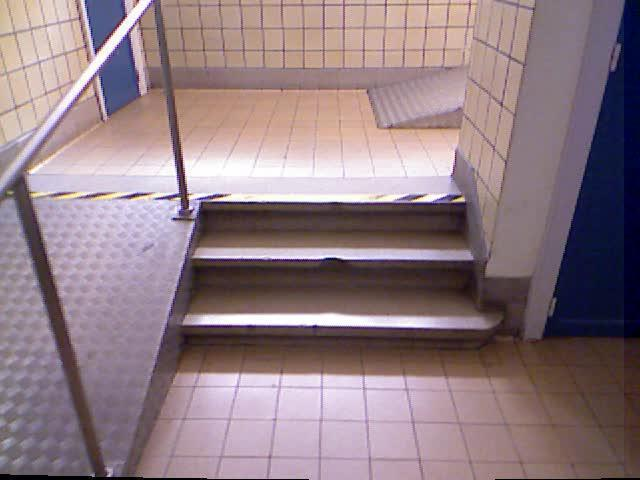Escaleras: (167, 186, 500, 363)
